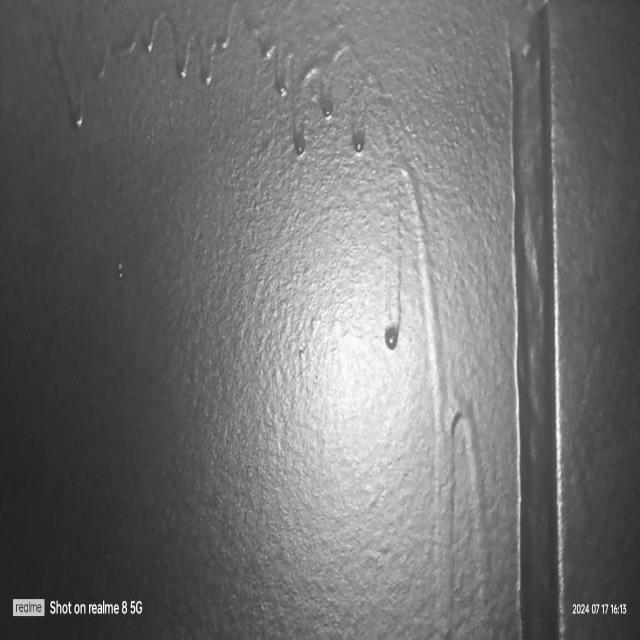paint drips: (372, 147, 500, 640), (0, 0, 236, 144), (242, 3, 388, 158)
